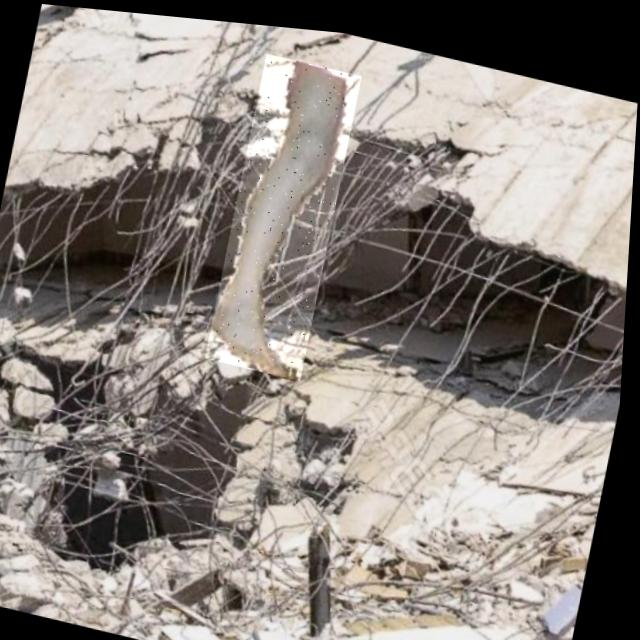Person in Rubble: (207, 45, 362, 379)
